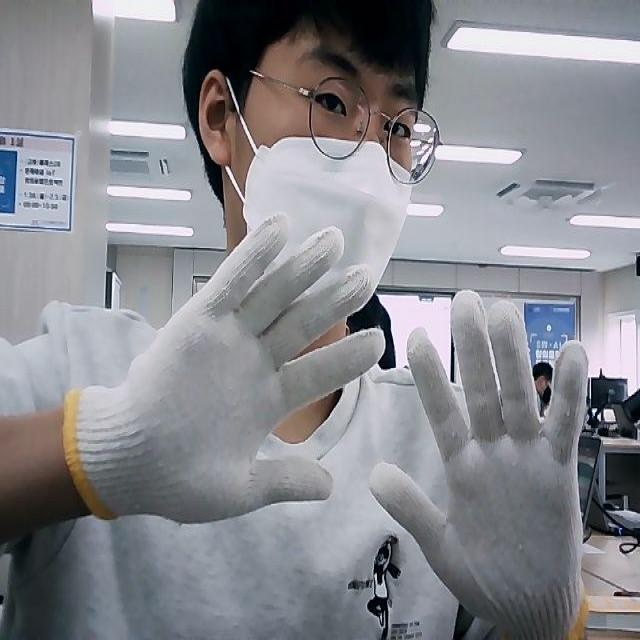Guantes: (61, 212, 388, 525), (397, 289, 590, 639)
